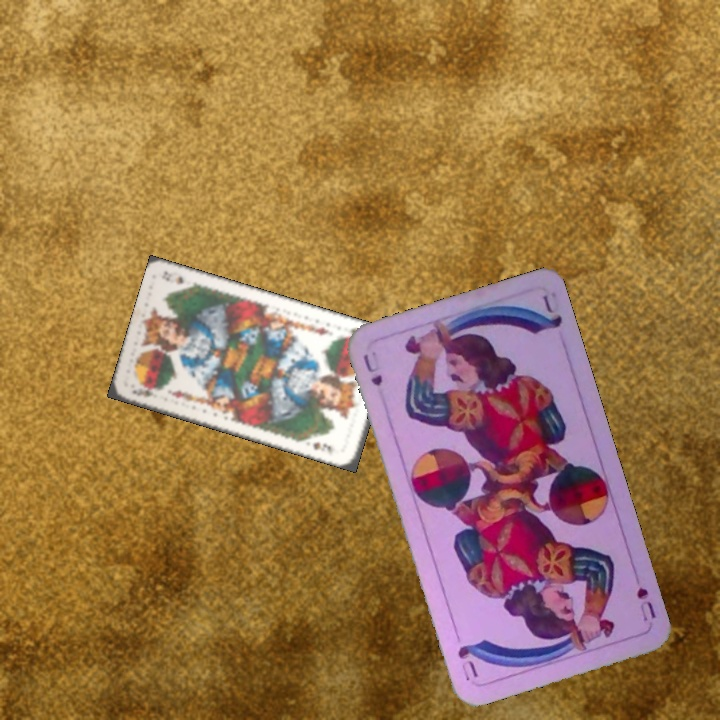SK: (129, 381, 155, 401)
SU: (632, 583, 659, 625), (359, 347, 385, 389)
